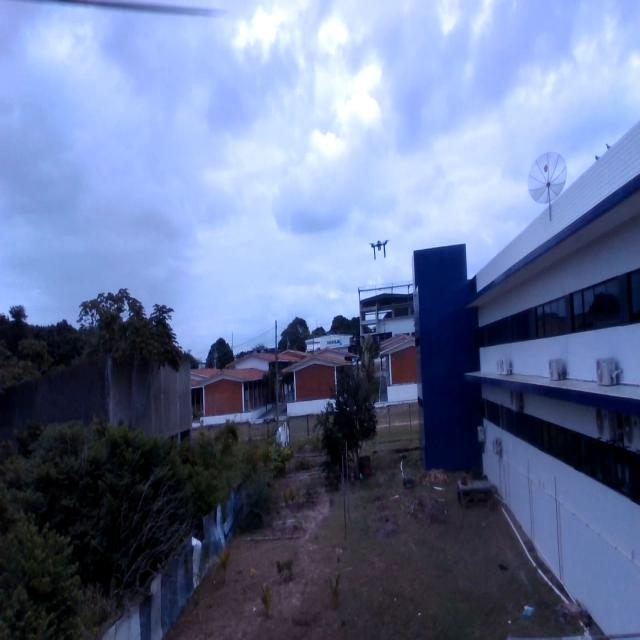-uav-: (365, 231, 393, 267)
